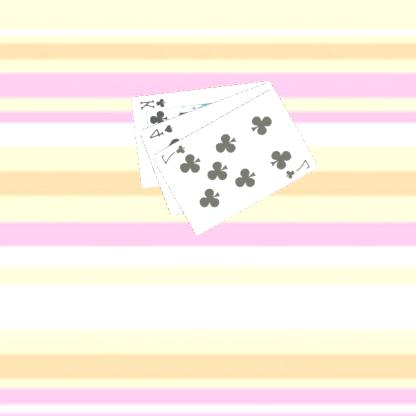4S: (148, 122, 176, 140)
7C: (284, 157, 313, 180), (160, 142, 188, 165)
KC: (139, 95, 172, 113)
